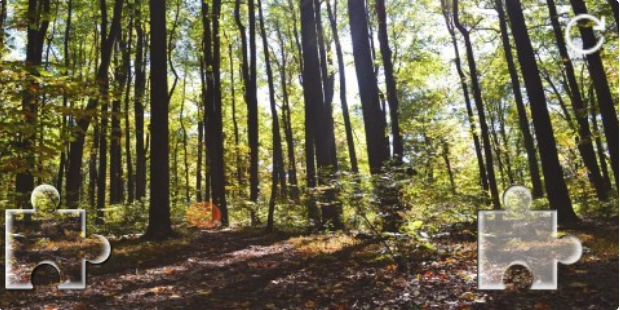target: (478, 186, 583, 291)
